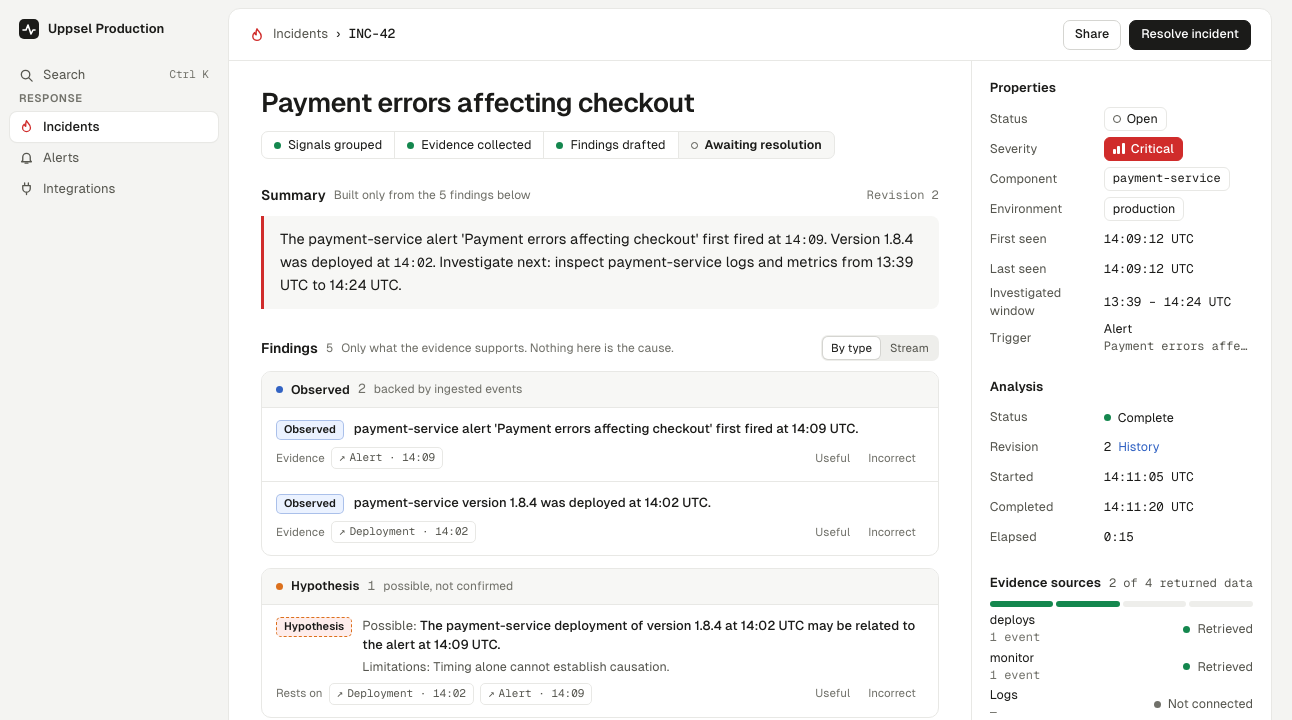
Test case: incident detail › revision history › lists revisions with their reason and changes, and views an old one
This screenshot has width=1292, height=720.
Check: the element showing "14:11:05 UTC" is shown, box [1104,468,1194,485]
Check: the element showing "14:11:20 UTC" is shown, box [1104,498,1194,515]
Click the button "History".
click(1139, 447)  # box [1118,438,1160,456]
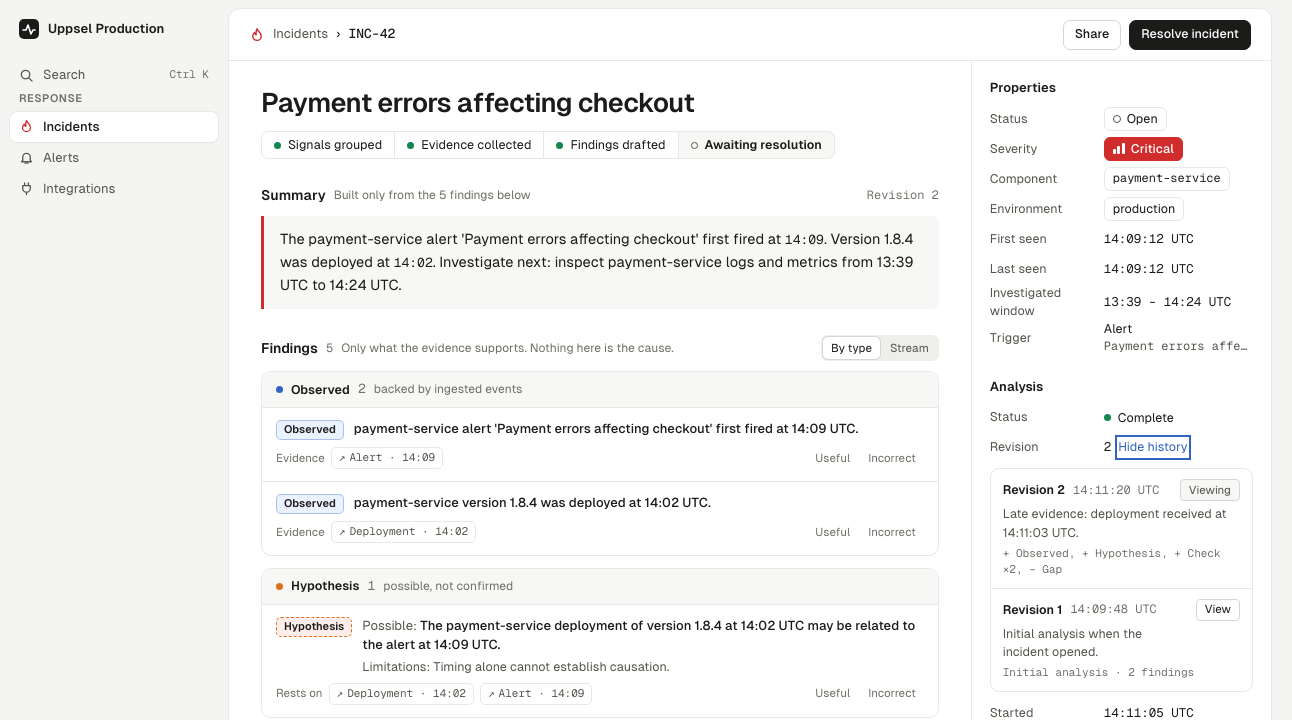
Check: the text "Revision 2" is shown, box [991,470,1252,589]
Check: the text "Late evidence: deployment received at 14:11:03 UTC." is shown, box [1003,506,1226,540]
Check: the text "+ Observed, + Hypothesis, + Check ×2, − Gap" is shown, box [1003,546,1221,576]
Click the button with aria-label "View revision 1".
click(1218, 610)  # box [1196,599,1240,621]
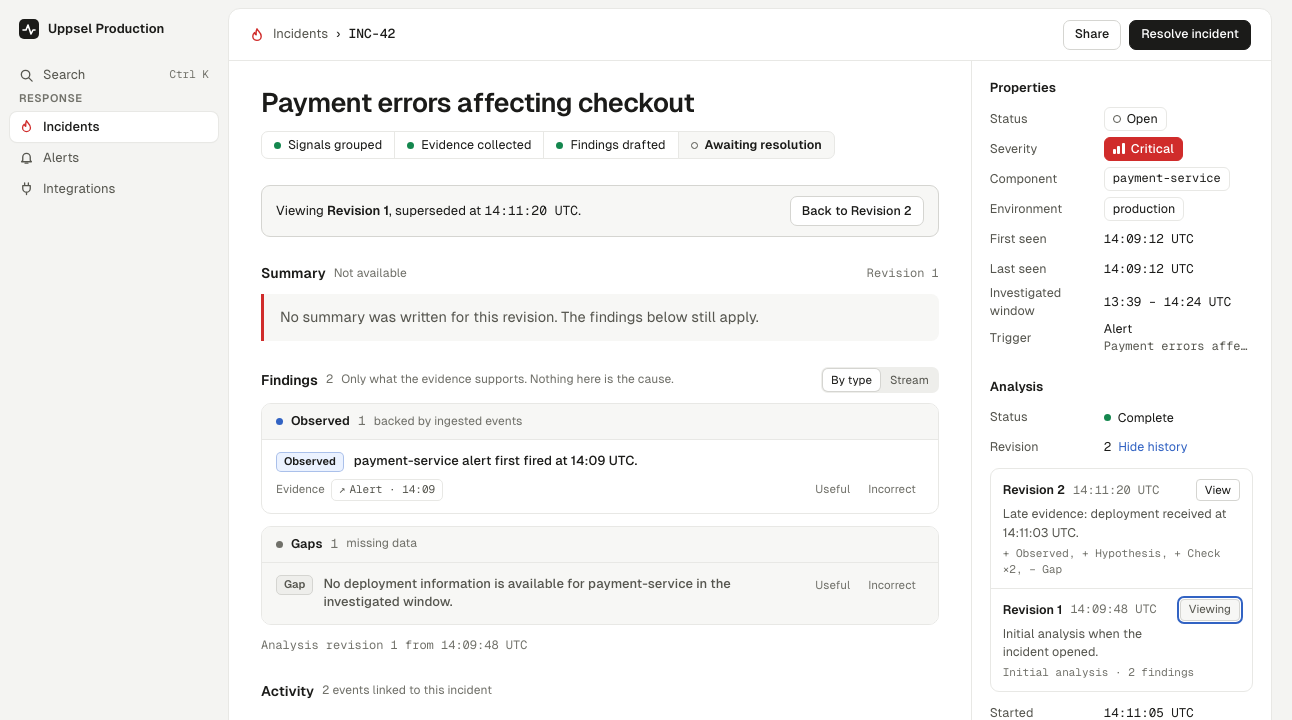
Check: the text "No deployment information is available" is shown, box [324,576,731,609]
Check: the message shows "Viewing Revision 1, superseded at 14:11:20 UTC.", box [261,185,939,237]
Check: the text "may be related to the alert" is gone
Click the button "Back to Revision 2".
click(857, 211)  # box [790,196,924,226]
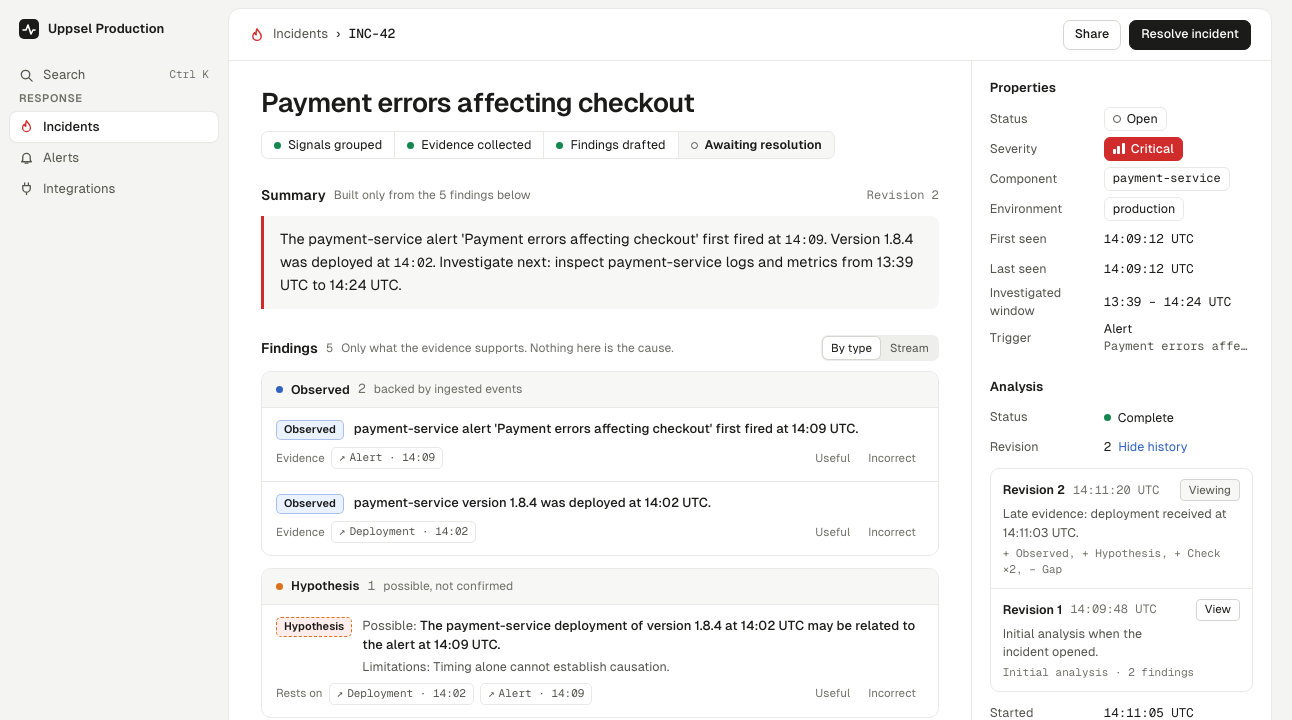
Check: the text "Viewing Revision 1" is gone
Check: the text "may be related to the alert" is shown, box [362,618,915,652]
